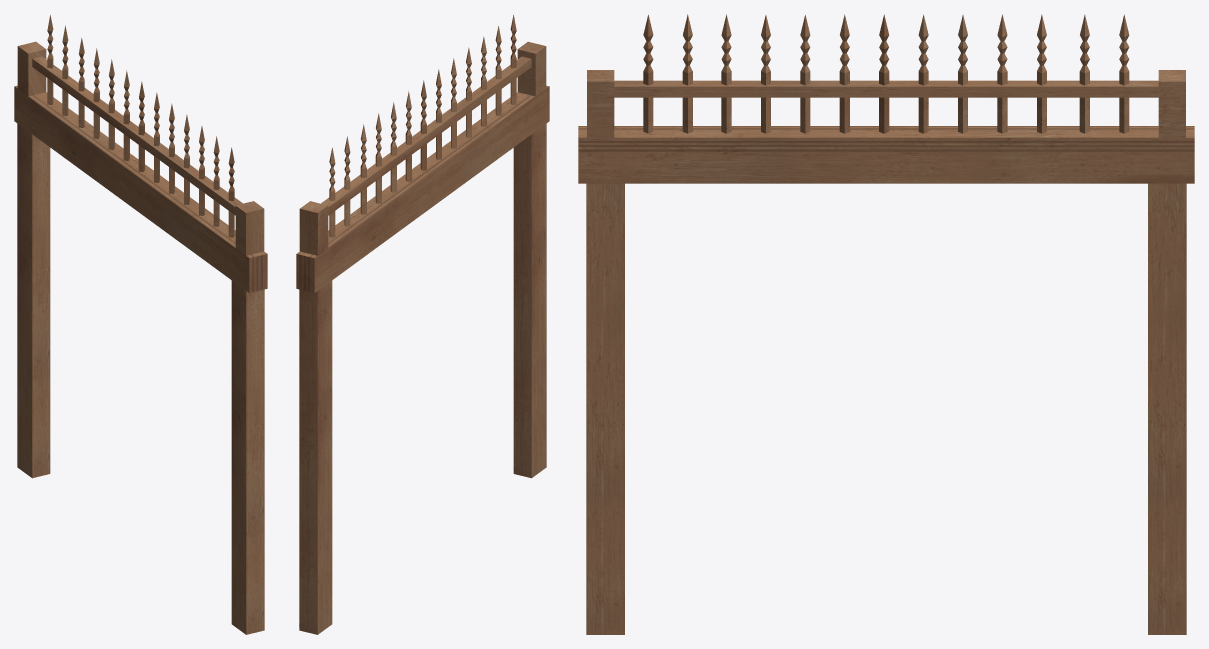
File: SM_JSH_Doorframe.fbx
3 views of the same model, side by side, from view 1: azimuth 30°, elevation 25°; view 2: azimuth 150°, elevation 25°; view 3: azimuth 270°, elevation 25° (orthographic). The views are drawn at different scales.
Parts seen in each view (by area): view 1: SM_JSH_Doorframe; view 2: SM_JSH_Doorframe; view 3: SM_JSH_Doorframe.
Boxes of the visible parts, x1,y1,x2,y2 form: SM_JSH_Doorframe: (14,15,267,634); SM_JSH_Doorframe: (296,15,549,634); SM_JSH_Doorframe: (578,14,1194,634).
Bounding box in the file's own units: 12 × 268 × 295.
Materials: 1 (1 with a texture image).
